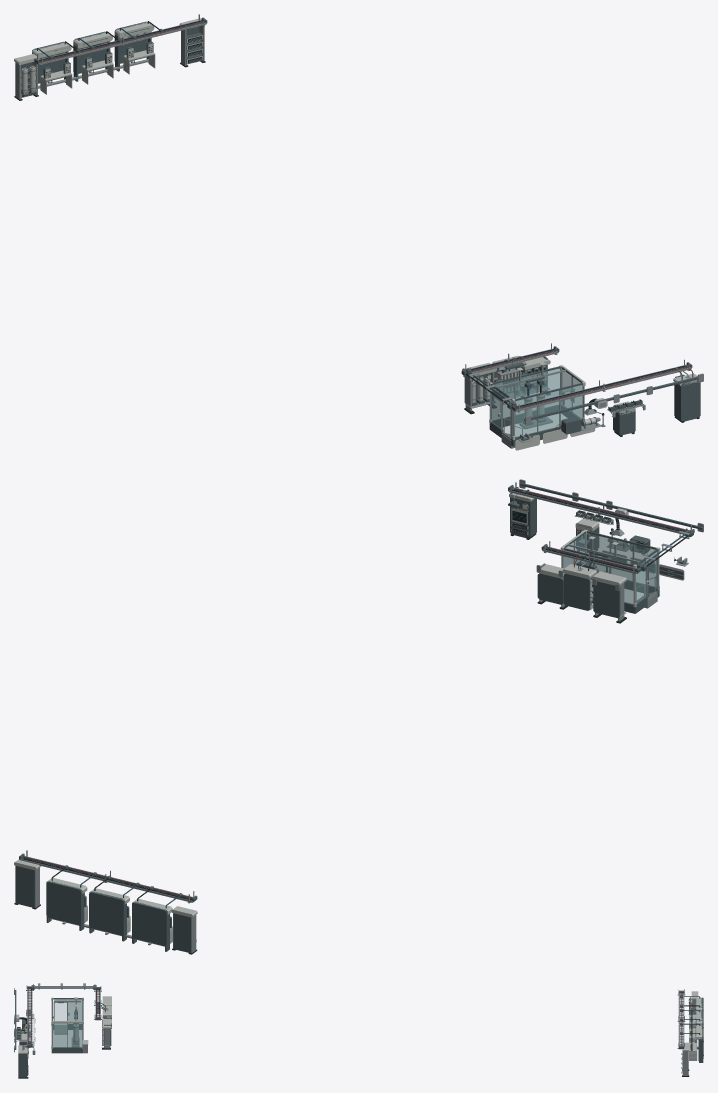
Rendered from AST-ENG-008_workbay_section.glb.
3 renders of one model, top to bottom at view 1: azimuth 30°, elevation 25°; view 2: azimuth 150°, elevation 25°; view 3: azimuth 270°, elevation 25°, orthographic. The views are drawn at different scales.
Visible parts, largest first — view 1: SectionStatic_1_WORKBAY, SectionStatic_3_WORKBAY, SectionStatic_24_CONTROL, SectionStatic_7_WORKBAY, SectionStatic_0_WORKBAY, SectionStatic_23_CONTROL, SectionStatic_26_CONTROL, SectionStatic_27_CONTROL, SectionStatic_4_WORKBAY; view 2: SectionStatic_23_CONTROL, SectionStatic_1_WORKBAY, SectionStatic_3_WORKBAY, SectionStatic_0_WORKBAY, SectionStatic_7_WORKBAY, SectionStatic_26_CONTROL, SectionStatic_24_CONTROL, SectionStatic_4_WORKBAY; view 3: SectionStatic_1_WORKBAY, SectionStatic_3_WORKBAY, SectionStatic_0_WORKBAY, SectionStatic_7_WORKBAY, SectionStatic_24_CONTROL, SectionStatic_26_CONTROL, SectionStatic_23_CONTROL, CONTACT_PROXY_CellGlass_E0, CONTACT_PROXY_CellGlass_E1, SectionStatic_4_WORKBAY, SectionStatic_2_WORKBAY, LEAF_WORKBAY_CELL (+2 smaller).
Part boxes in pixels (bbox=[...]): SectionStatic_1_WORKBAY: bbox=[461, 346, 700, 446]; SectionStatic_3_WORKBAY: bbox=[463, 343, 703, 442]; SectionStatic_24_CONTROL: bbox=[14, 18, 202, 97]; SectionStatic_7_WORKBAY: bbox=[492, 369, 582, 436]; SectionStatic_0_WORKBAY: bbox=[466, 355, 697, 450]; SectionStatic_23_CONTROL: bbox=[21, 17, 207, 97]; SectionStatic_26_CONTROL: bbox=[15, 14, 206, 99]; SectionStatic_27_CONTROL: bbox=[14, 20, 205, 100]; SectionStatic_4_WORKBAY: bbox=[464, 349, 699, 436]; SectionStatic_23_CONTROL: bbox=[16, 853, 197, 952]; SectionStatic_1_WORKBAY: bbox=[508, 483, 702, 618]; SectionStatic_3_WORKBAY: bbox=[508, 479, 703, 621]; SectionStatic_0_WORKBAY: bbox=[509, 493, 684, 607]; SectionStatic_7_WORKBAY: bbox=[564, 534, 656, 603]; SectionStatic_26_CONTROL: bbox=[15, 850, 196, 952]; SectionStatic_24_CONTROL: bbox=[14, 859, 197, 943]; SectionStatic_4_WORKBAY: bbox=[510, 489, 689, 623]; SectionStatic_1_WORKBAY: bbox=[15, 985, 111, 1077]; SectionStatic_3_WORKBAY: bbox=[14, 983, 111, 1058]; SectionStatic_0_WORKBAY: bbox=[14, 996, 111, 1053]; SectionStatic_7_WORKBAY: bbox=[53, 1000, 81, 1046]; SectionStatic_24_CONTROL: bbox=[682, 991, 702, 1060]; SectionStatic_26_CONTROL: bbox=[678, 989, 703, 1075]; SectionStatic_23_CONTROL: bbox=[677, 990, 703, 1075]; CONTACT_PROXY_CellGlass_E0: bbox=[68, 1023, 81, 1046]; CONTACT_PROXY_CellGlass_E1: bbox=[53, 1023, 66, 1046]; SectionStatic_4_WORKBAY: bbox=[18, 986, 110, 1078]; SectionStatic_2_WORKBAY: bbox=[22, 987, 105, 1046]; LEAF_WORKBAY_CELL: bbox=[54, 1003, 67, 1020].
Size of the model in its own units: 13.54 by 4.29 by 63.64.
Materials: 10 (9 with a texture image).
